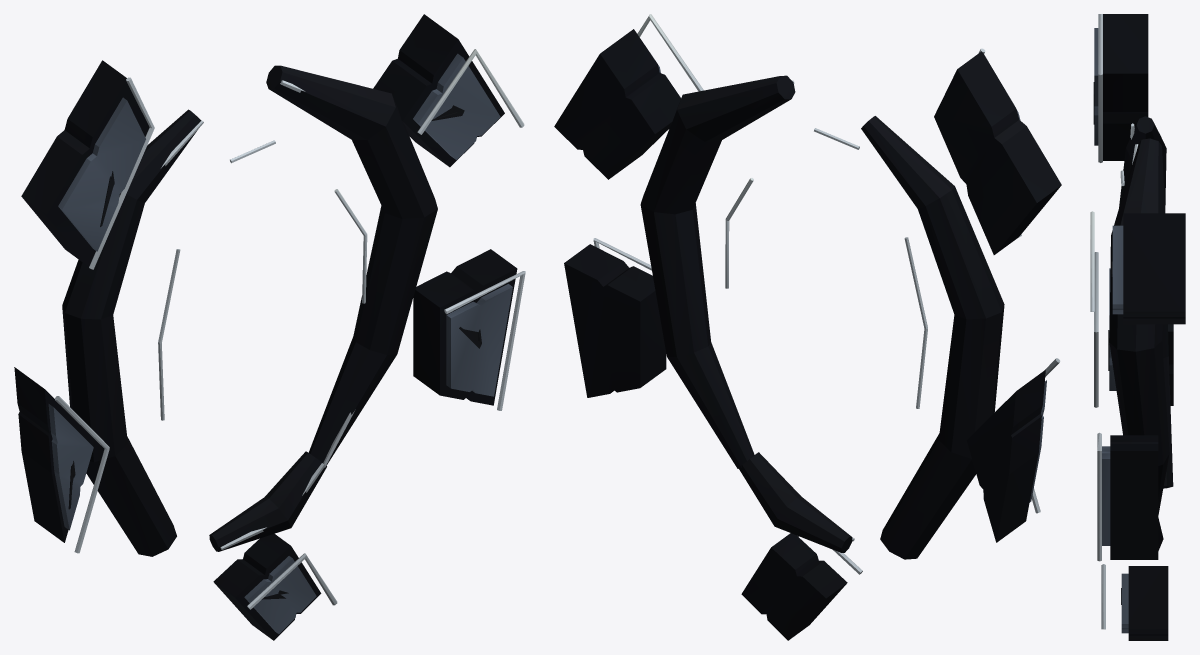
The model's file is the_void.fbx.
The picture shows the model from 3 angles, left to right: view 1: azimuth 30°, elevation 25°; view 2: azimuth 150°, elevation 25°; view 3: azimuth 270°, elevation 25°; orthographic projection. The views are drawn at different scales.
Visible parts, largest first — view 1: the_void; view 2: the_void; view 3: the_void.
Part boxes in pixels (left/top/right/bottom): the_void: left=14, top=14, right=525, bottom=640; the_void: left=554, top=14, right=1061, bottom=640; the_void: left=1090, top=14, right=1185, bottom=640.
Size of the model in its own units: 10.26 by 12.6 by 1.96.
